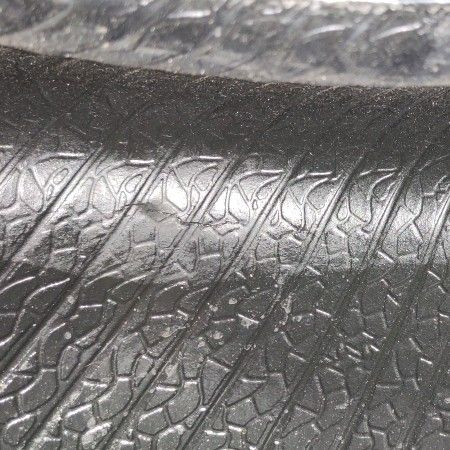CBU: (113, 193, 251, 234)
